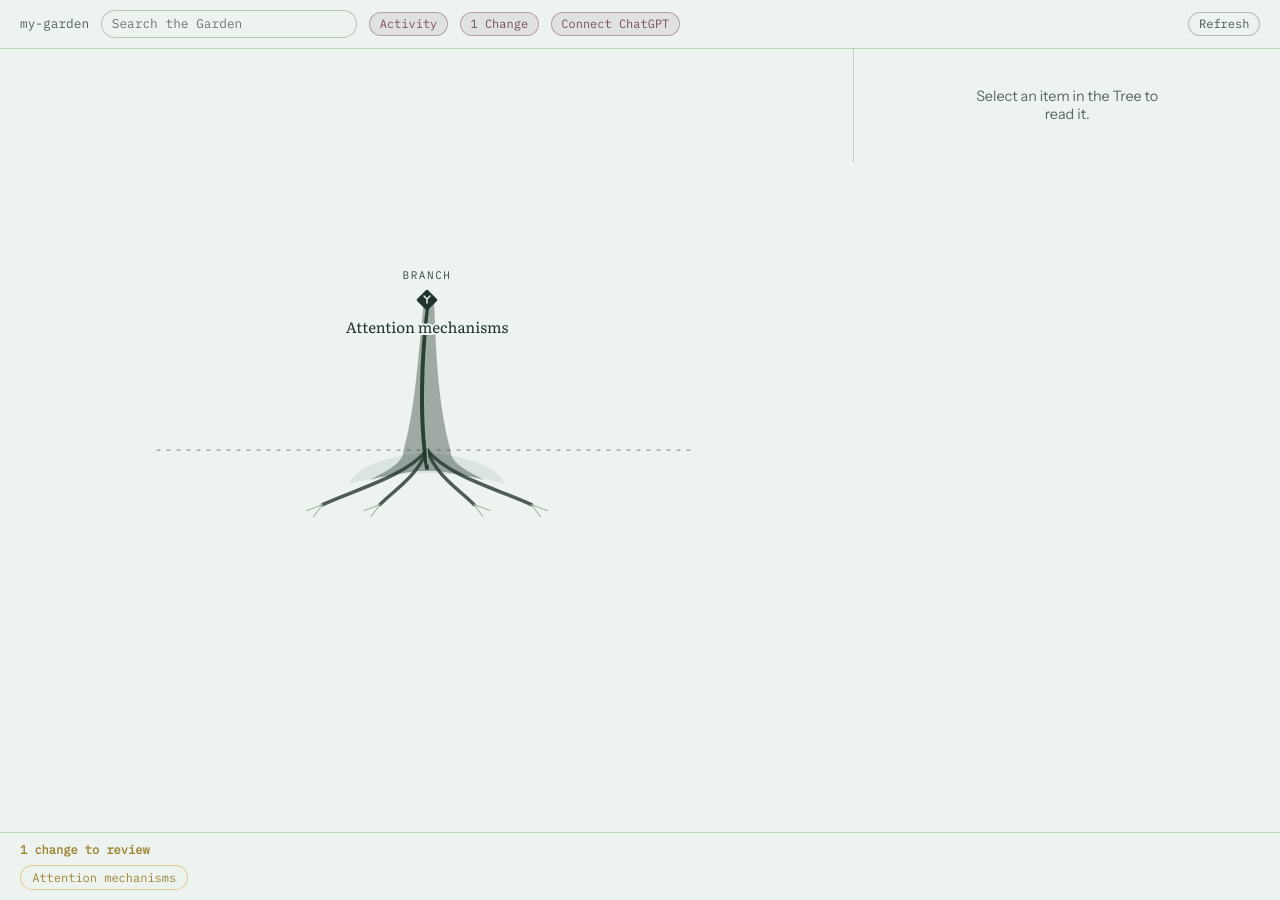
it: opening a change › shows its diff without hiding the Tree
Expected: the element named "change tray" is shown, [0,832,1279,899]
Click the button "Attention mechanisms" at (104, 878), box [20,865,188,890]
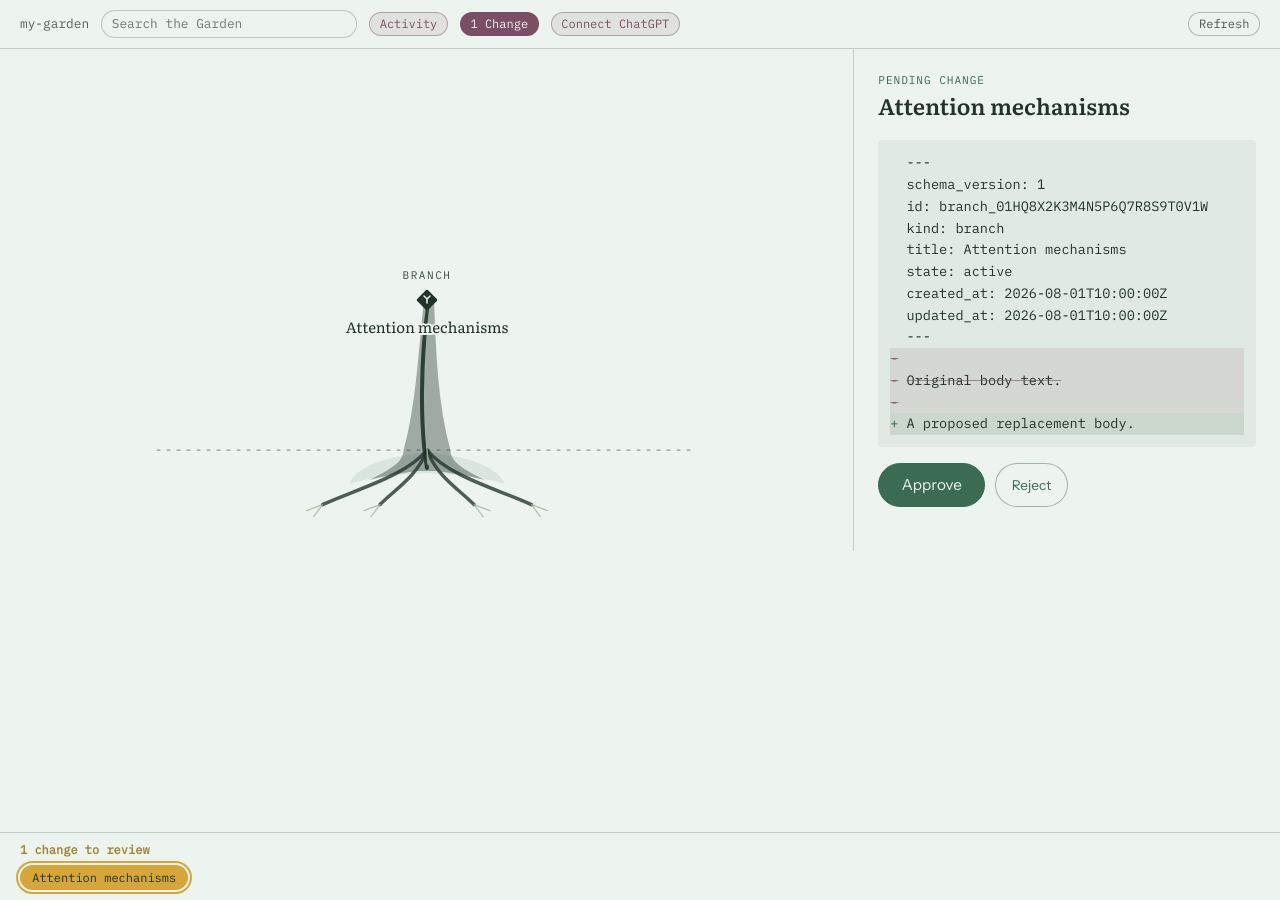
Expected: the icon is shown, [47,190,807,690]
Expected: the element named "proposed change" is shown, [878,140,1256,447]
Expected: the text "+ A proposed replacement body." is shown, [890,413,1244,435]
